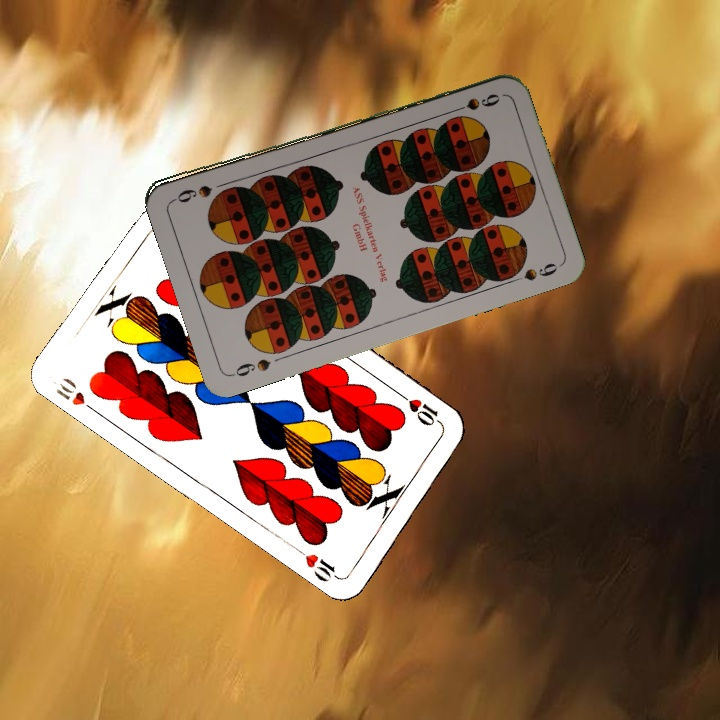H10: (51, 373, 101, 416), (395, 389, 446, 429)
S9: (445, 89, 502, 116), (228, 354, 273, 380)
